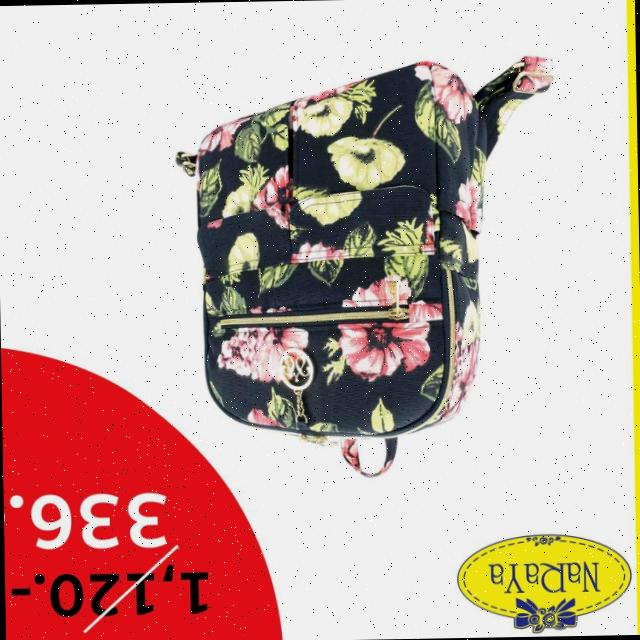handbag: (190, 57, 487, 436)
